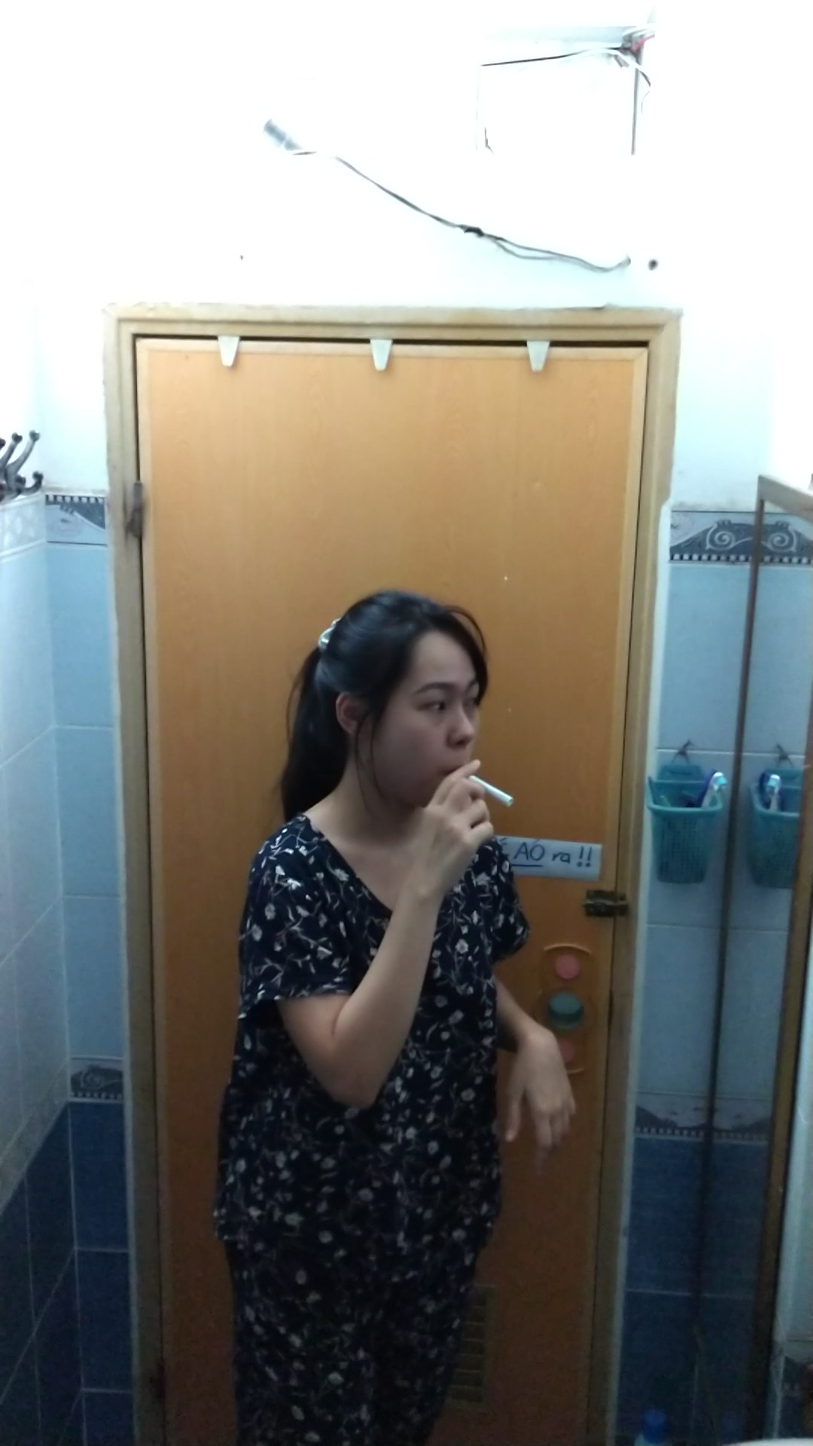cigarette: (470, 773, 519, 813)
person: (208, 569, 561, 1444)
